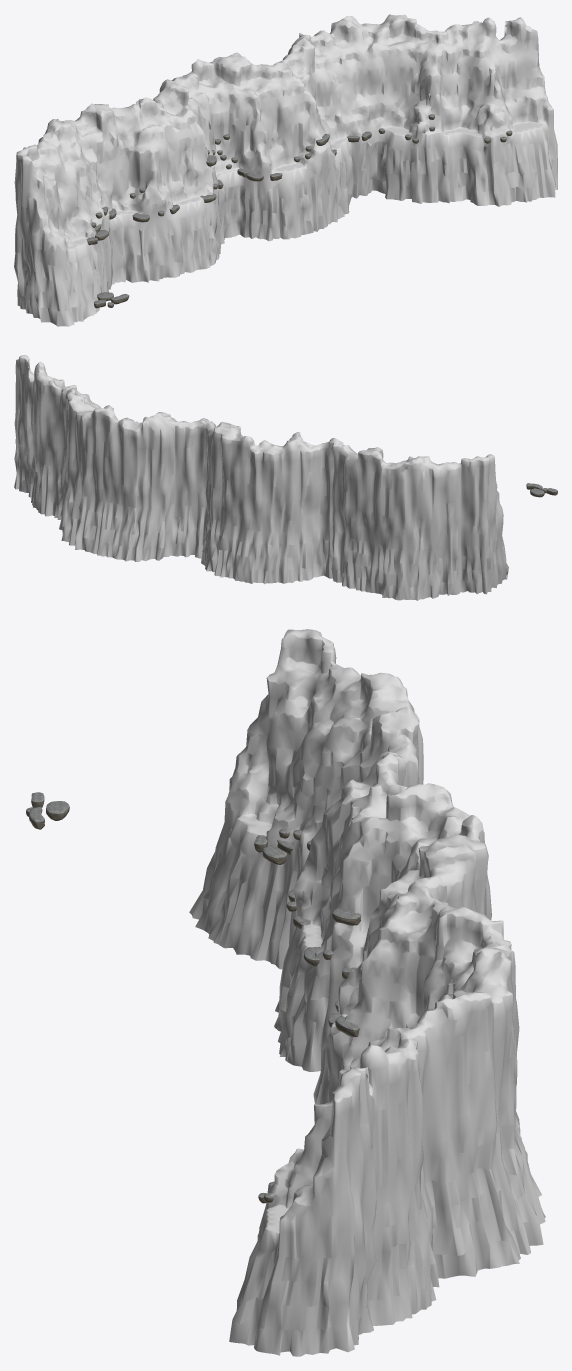
File: berg_1.fbx
3 views of the same model, one above another, from view 1: azimuth 30°, elevation 25°; view 2: azimuth 150°, elevation 25°; view 3: azimuth 270°, elevation 25° (orthographic). The views are drawn at different scales.
Parts seen in each view (by area): view 1: Hexgrid; view 2: Hexgrid; view 3: Hexgrid.
Part boxes in pixels (x1,y1,x2,y2): Hexgrid: (14,14,557,326); Hexgrid: (14,355,508,600); Hexgrid: (189,629,545,1356).
Bounding box in the file's own units: 17464 × 4933 × 8318.
